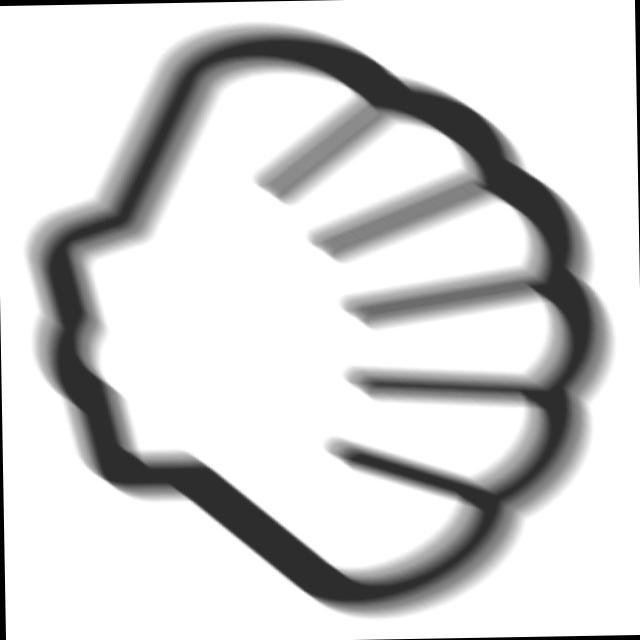shell: (10, 8, 631, 638)
